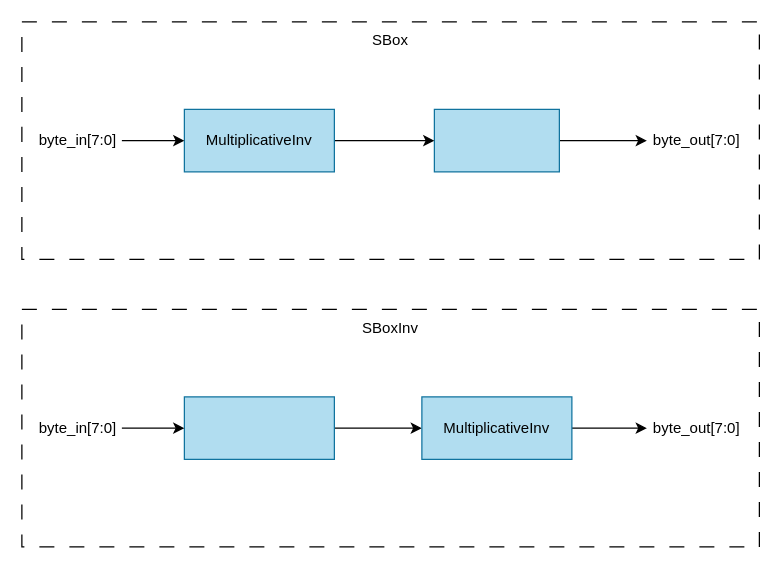
Image size: 781x569. Some labels were removed from this diagram. The shapes that lost their labels are listed below. From the top down, each one's centre as x and y in pixels, then its label:
point (496, 140): AffineTransform
point (258, 427): InvAffineTransform
